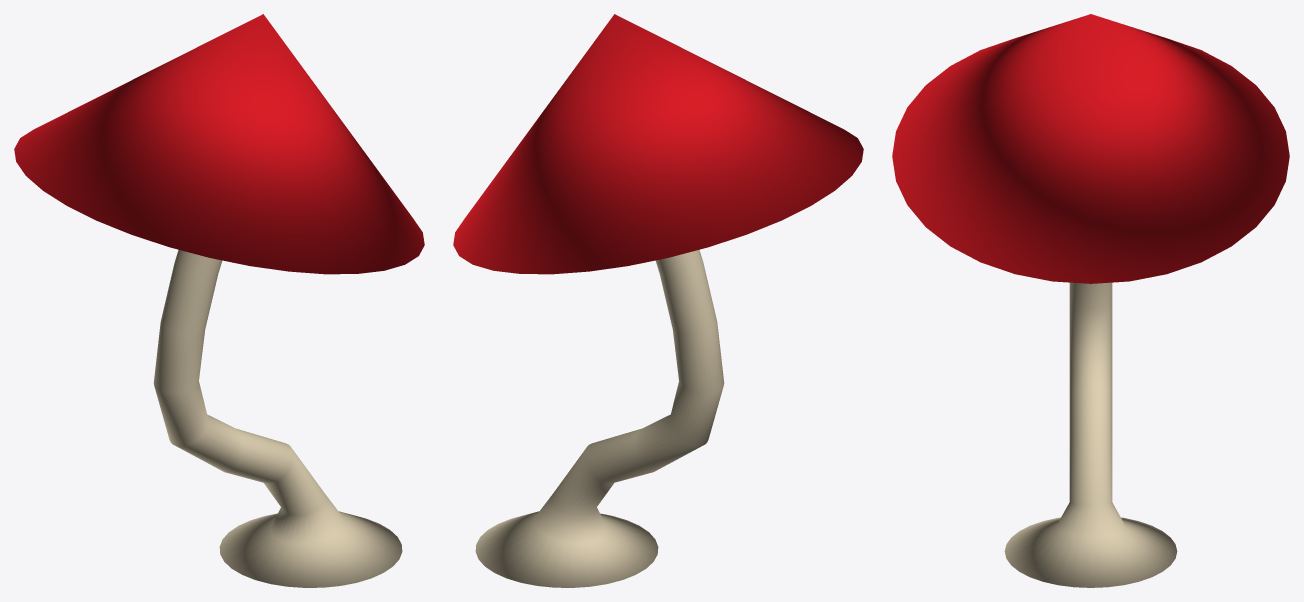
Rendered from champi32.fbx.
3 renders of one model, left to right at view 1: azimuth 30°, elevation 25°; view 2: azimuth 150°, elevation 25°; view 3: azimuth 270°, elevation 25°, orthographic. The views are drawn at different scales.
Visible parts, largest first — view 1: Cylinder_001; view 2: Cylinder_001; view 3: Cylinder_001.
Boxes of the visible parts, left/top/right/bottom form: Cylinder_001: left=14, top=14, right=424, bottom=587; Cylinder_001: left=453, top=14, right=863, bottom=587; Cylinder_001: left=892, top=14, right=1289, bottom=587.
Bounding box in the file's own units: 89.03 × 132 × 92.15.
